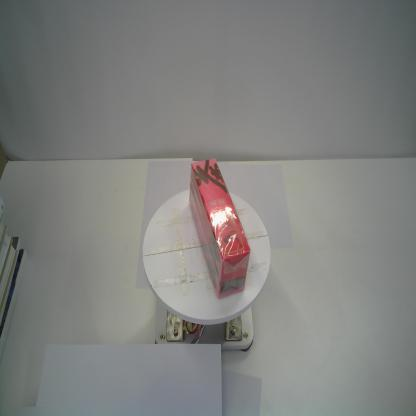Instant Drink: (190, 158, 250, 299)
